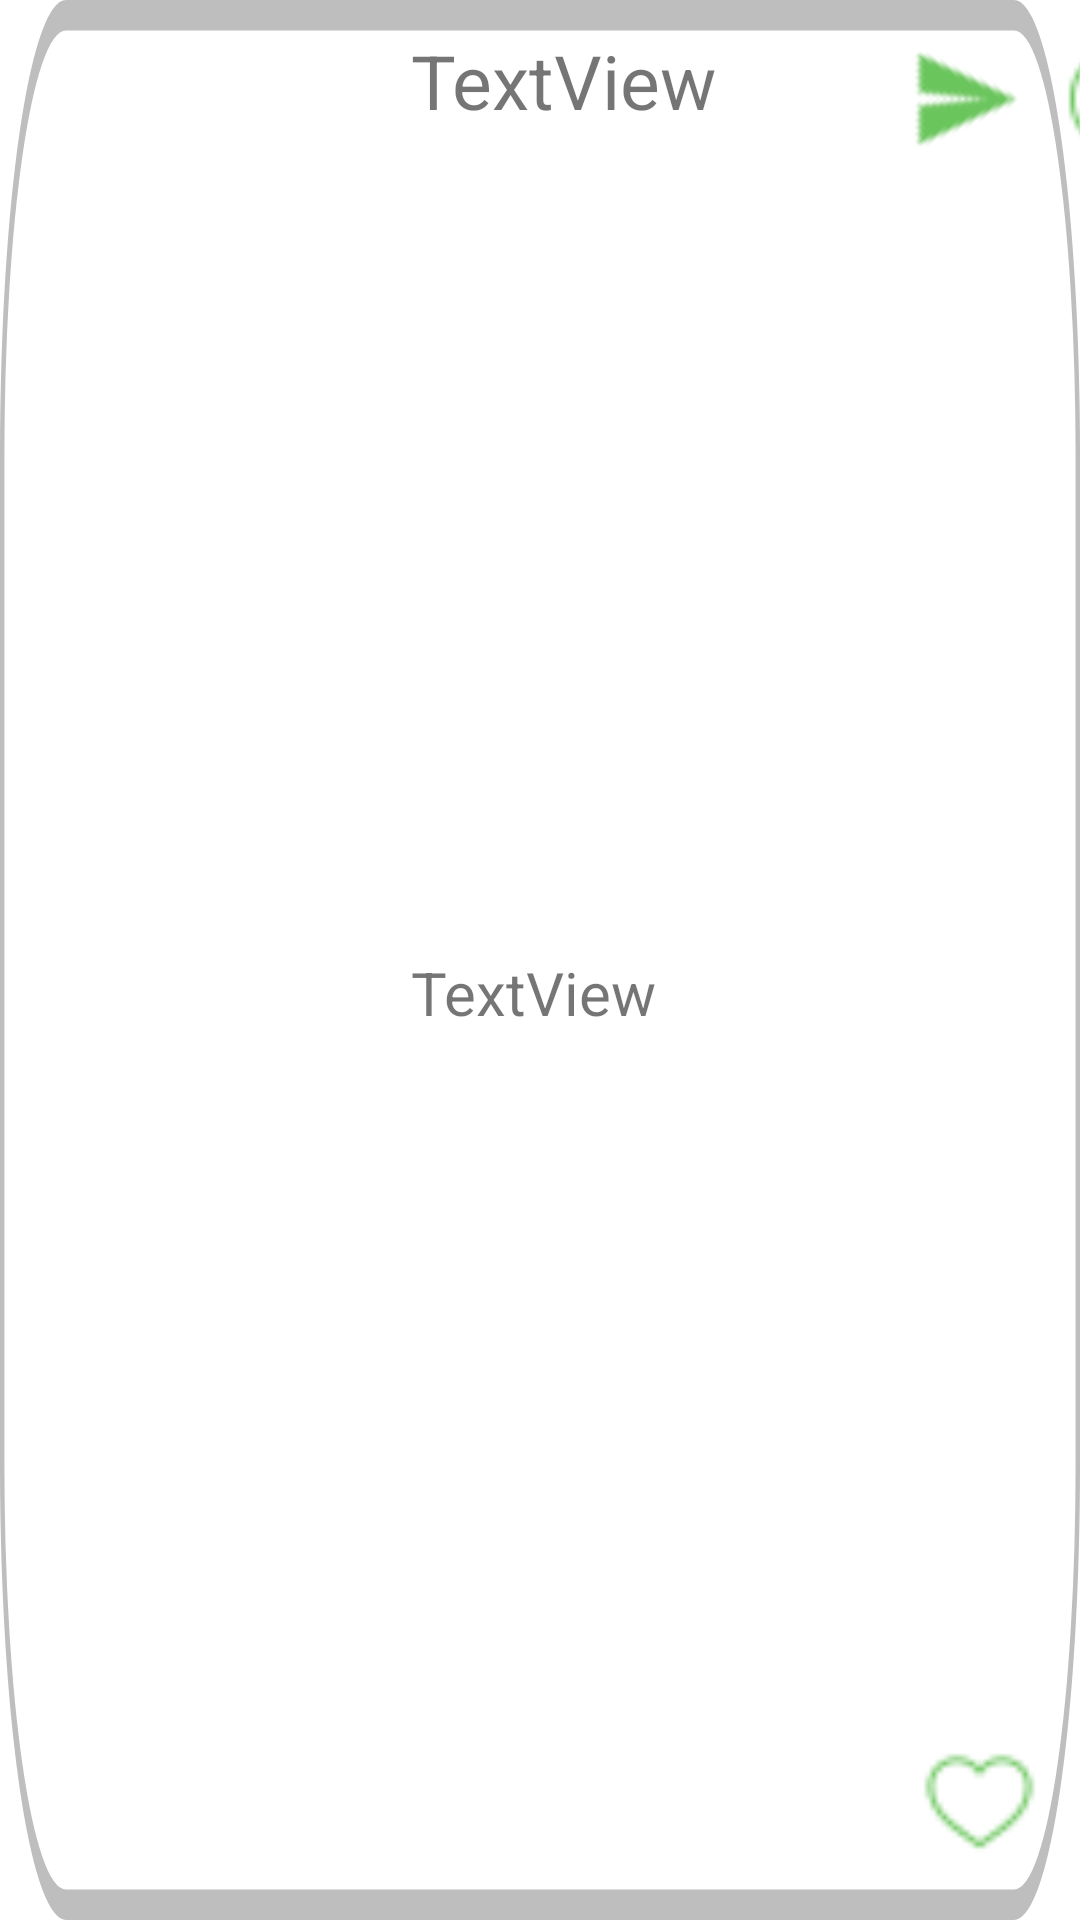

Screen size 1080×1920. Icon name, then its box in pixels as BBox(x1, y1, x2, y2):
favourites not: BBox(924, 1754, 1035, 1849)
